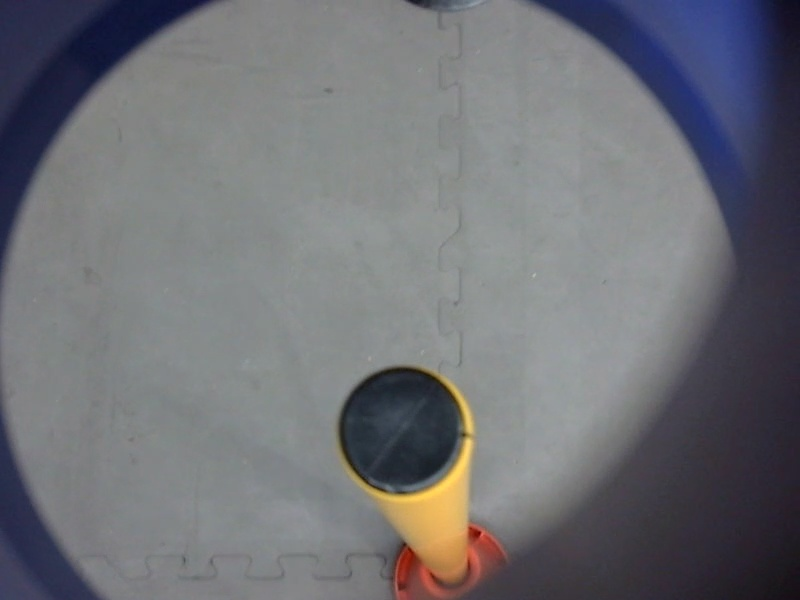tip: (327, 350, 482, 514)
